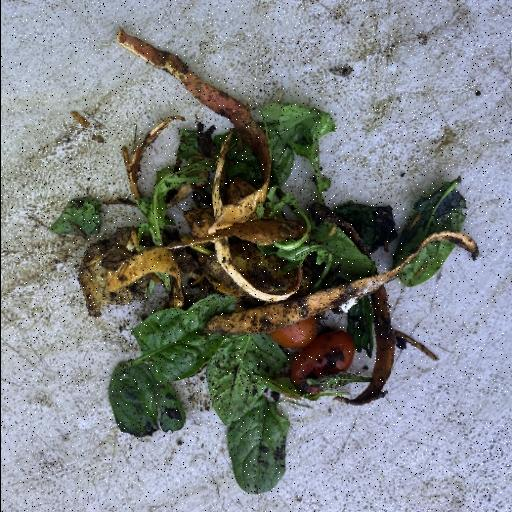Waste: (51, 26, 480, 494)
